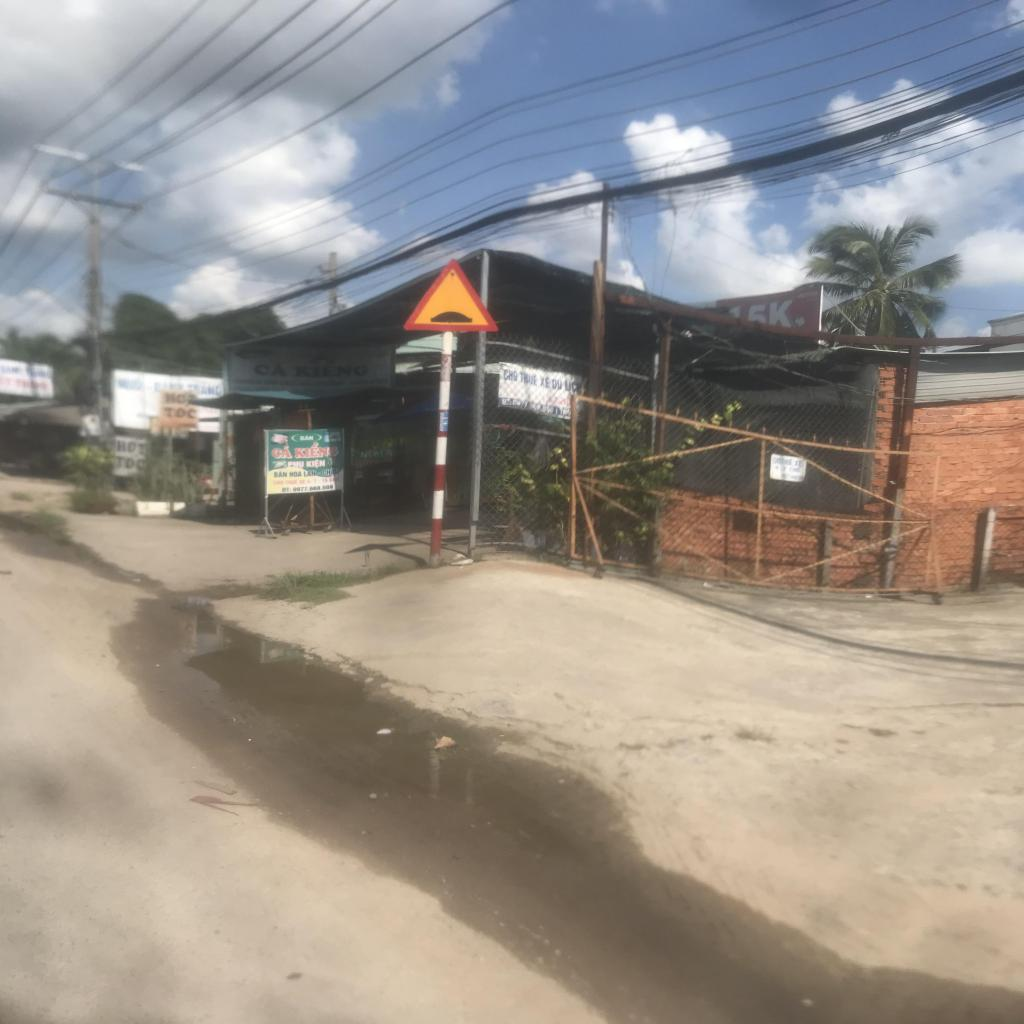duong_co_song_map_mo_nhan_tao: (403, 254, 500, 332)
